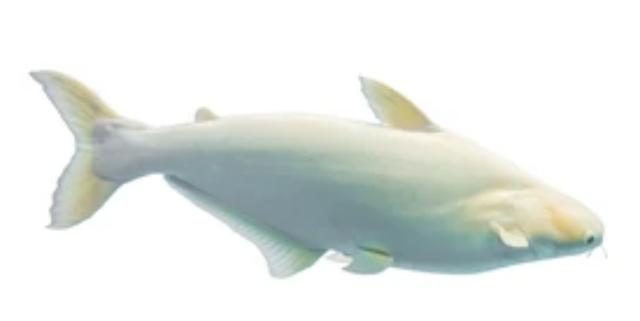Sirip Anal: (163, 169, 323, 281)
Sirip Dada: (486, 213, 534, 261)
Sirip Ekor: (24, 64, 120, 240)
Sirip Perut: (328, 236, 400, 284)
Sirip Punggung: (346, 68, 444, 136)
